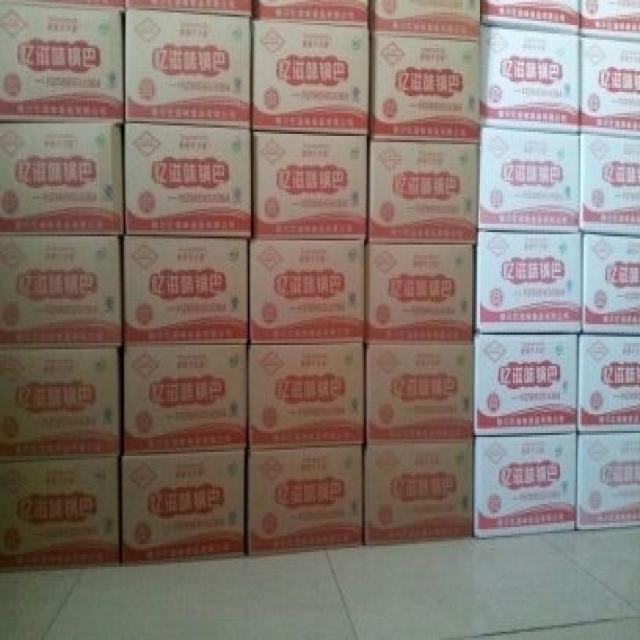box: (124, 9, 252, 129), (0, 452, 121, 575), (0, 2, 125, 121), (120, 450, 247, 567), (0, 121, 125, 235), (0, 234, 123, 349), (125, 126, 250, 238), (122, 345, 247, 454), (250, 19, 369, 132), (0, 349, 123, 458), (123, 238, 248, 345), (245, 445, 364, 557), (250, 133, 369, 241), (246, 239, 364, 344), (370, 30, 480, 142), (247, 344, 362, 449), (364, 439, 474, 545), (368, 140, 479, 243), (362, 344, 473, 444), (475, 230, 581, 334), (479, 24, 581, 132), (363, 244, 473, 342), (478, 127, 581, 231), (474, 434, 577, 536), (474, 334, 578, 434), (575, 431, 638, 529), (578, 334, 638, 432), (580, 36, 638, 136), (580, 134, 638, 234), (582, 232, 638, 335), (370, 1, 479, 40), (481, 2, 582, 34), (252, 1, 374, 26), (580, 1, 638, 40)
